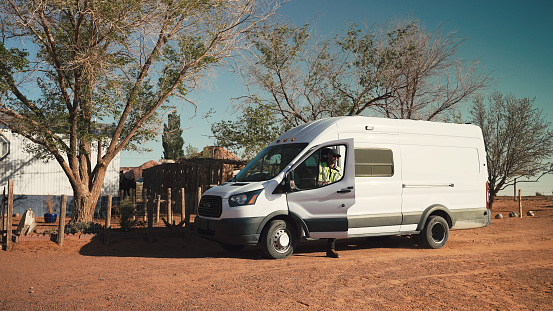van: (195, 116, 492, 261)
